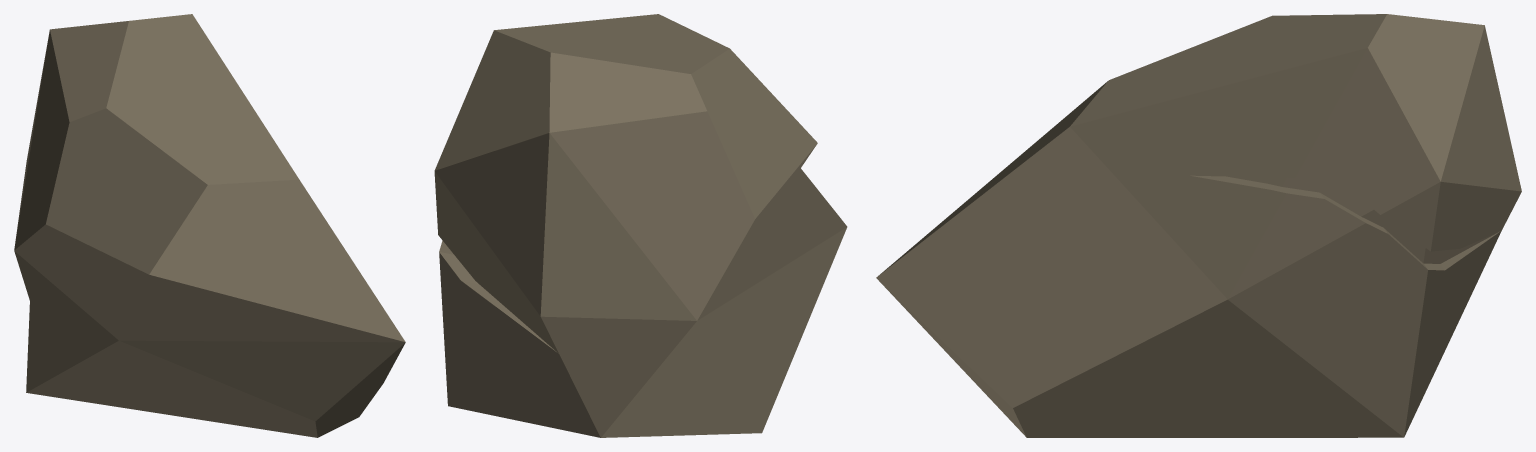
Rendered from Big_Rock_3.fbx.
3 views of the same model, side by side, from view 1: azimuth 30°, elevation 25°; view 2: azimuth 150°, elevation 25°; view 3: azimuth 270°, elevation 25° (orthographic). The views are drawn at different scales.
Visible parts, largest first — view 1: rock_9; view 2: rock_9; view 3: rock_9.
Boxes of the visible parts, bbox=[...] form: rock_9: bbox=[14, 14, 405, 437]; rock_9: bbox=[434, 14, 847, 437]; rock_9: bbox=[876, 14, 1521, 437].
Size of the model in its own units: 138 by 171 by 264.
